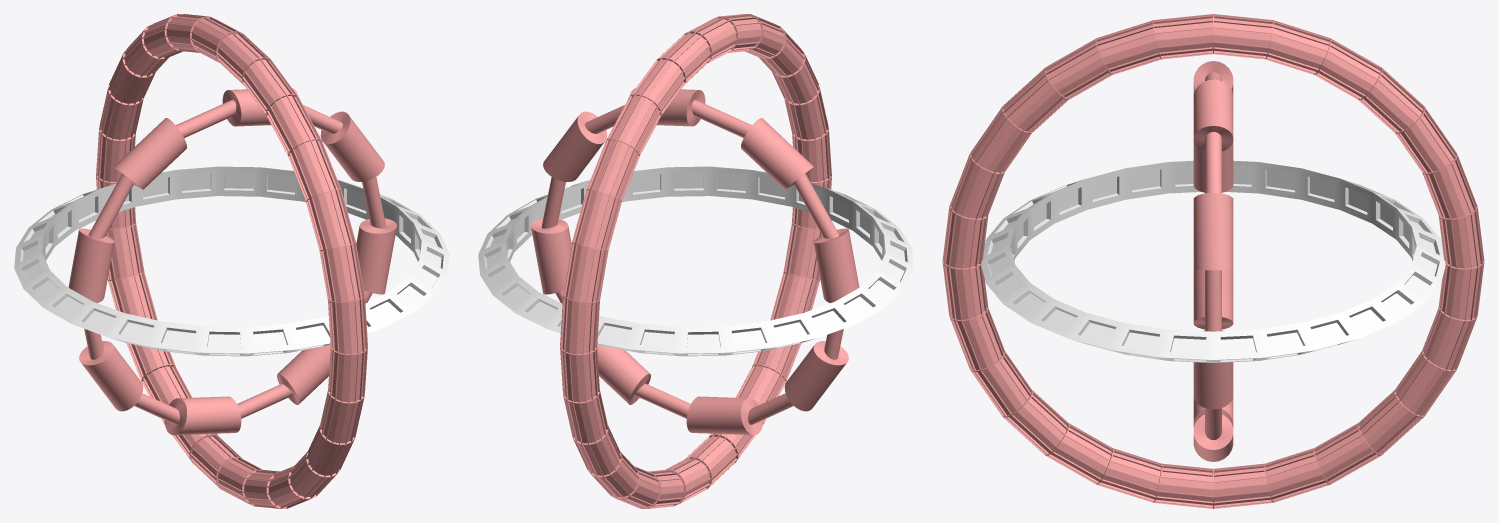
The model's file is 1מעגל.gltf.
The picture shows the model from 3 angles, left to right: view 1: azimuth 30°, elevation 25°; view 2: azimuth 150°, elevation 25°; view 3: azimuth 270°, elevation 25°; orthographic projection. The views are drawn at different scales.
Parts seen in each view (by area): view 1: 1, 2, 3; view 2: 1, 2, 3; view 3: 1, 2, 3.
Boxes of the visible parts, <box> form: 1: <box>96,14,367,508</box>; 2: <box>14,166,449,356</box>; 3: <box>68,88,396,435</box>; 1: <box>560,14,831,508</box>; 2: <box>478,166,913,356</box>; 3: <box>531,88,859,435</box>; 1: <box>942,14,1484,508</box>; 2: <box>981,160,1445,362</box>; 3: <box>1193,61,1233,461</box>.
Size of the model in its own units: 186 by 216 by 216.
